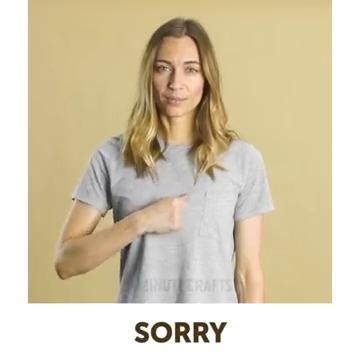sorry: (106, 180, 220, 261)
